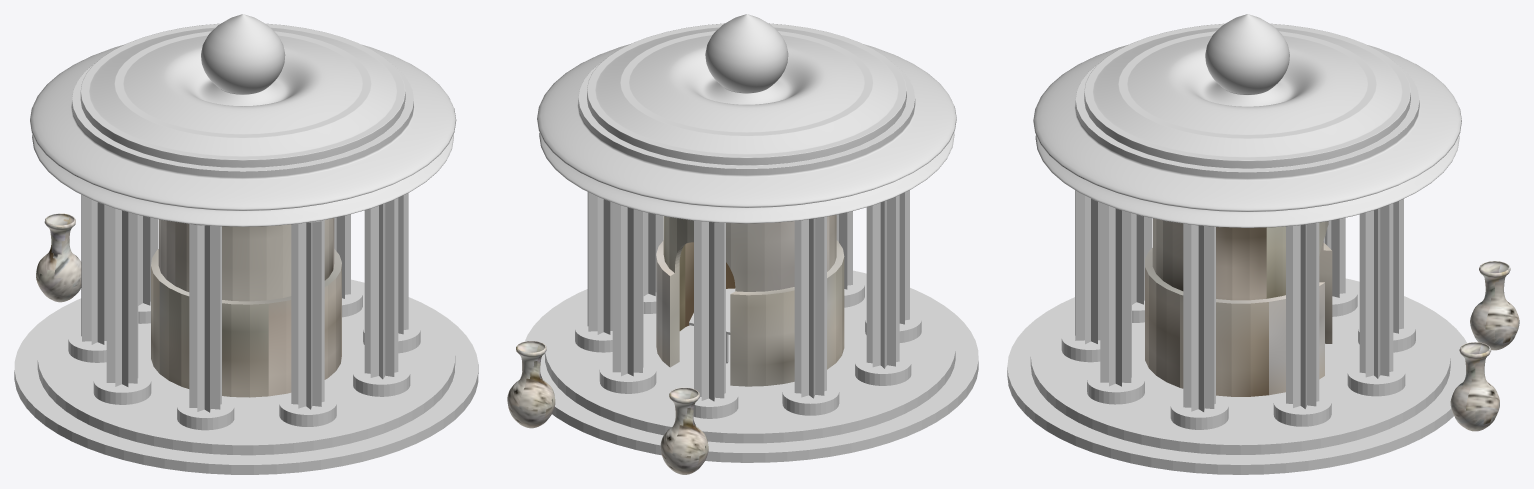
The model's file is lab.fbx.
The picture shows the model from 3 angles, left to right: view 1: azimuth 30°, elevation 25°; view 2: azimuth 150°, elevation 25°; view 3: azimuth 270°, elevation 25°; orthographic projection. The views are drawn at different scales.
Visible parts, largest first — view 1: Крыша, Цоколь, Фасад, Колонна.009, Колонна.008, Колонна.001, Колонна.007, Колонна.006, Ваза2, Колонна.002, Колонна.005, Колонна.003; view 2: Крыша, Цоколь, Фасад, Колонна.006, Колонна.007, Колонна.004, Колонна.005, Колонна.003, Ваза, Ваза2, Колонна.008, Колонна.002 (+1 smaller); view 3: Крыша, Цоколь, Фасад, Колонна.003, Колонна.002, Колонна.004, Колонна.001, Колонна.009, Ваза, Ваза2, Колонна.005, Колонна.006 (+1 smaller).
Boxes of the visible parts, bbox=[...] form: Крыша: bbox=[30, 14, 456, 226]; Цоколь: bbox=[14, 279, 478, 474]; Фасад: bbox=[151, 218, 341, 397]; Колонна.009: bbox=[279, 219, 336, 426]; Колонна.008: bbox=[177, 224, 234, 430]; Колонна.001: bbox=[353, 198, 410, 396]; Колонна.007: bbox=[93, 205, 151, 404]; Колонна.006: bbox=[68, 195, 106, 362]; Ваза2: bbox=[36, 213, 81, 302]; Колонна.002: bbox=[363, 193, 420, 353]; Колонна.005: bbox=[138, 215, 157, 323]; Колонна.003: bbox=[334, 214, 362, 317]; Крыша: bbox=[537, 14, 956, 223]; Цоколь: bbox=[522, 270, 978, 462]; Фасад: bbox=[656, 214, 844, 386]; Колонна.006: bbox=[782, 217, 839, 415]; Колонна.007: bbox=[855, 195, 911, 385]; Колонна.004: bbox=[599, 202, 656, 393]; Колонна.005: bbox=[688, 220, 738, 418]; Колонна.003: bbox=[575, 192, 612, 352]; Ваза: bbox=[507, 341, 555, 428]; Ваза2: bbox=[660, 387, 708, 474]; Колонна.008: bbox=[865, 190, 921, 342]; Колонна.002: bbox=[643, 212, 663, 313]; Крыша: bbox=[1033, 14, 1461, 227]; Цоколь: bbox=[1007, 278, 1466, 474]; Фасад: bbox=[1145, 218, 1332, 396]; Колонна.003: bbox=[1273, 222, 1331, 426]; Колонна.002: bbox=[1170, 223, 1228, 429]; Колонна.004: bbox=[1347, 203, 1405, 396]; Колонна.001: bbox=[1087, 203, 1144, 404]; Колонна.009: bbox=[1061, 190, 1100, 362]; Ваза: bbox=[1450, 342, 1499, 431]; Ваза2: bbox=[1470, 261, 1519, 350]; Колонна.005: bbox=[1358, 199, 1415, 352]; Колонна.006: bbox=[1323, 217, 1357, 316].
Size of the model in its own units: 680 by 582 by 746.
